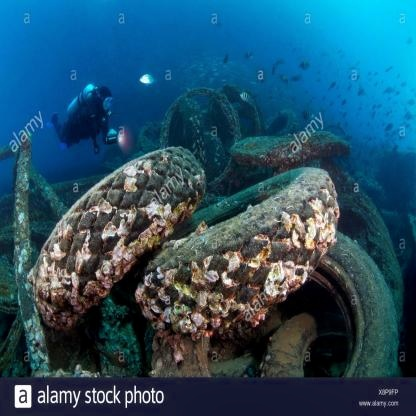tire: (146, 181, 334, 330), (32, 155, 194, 315), (162, 85, 263, 207), (316, 223, 384, 368)
